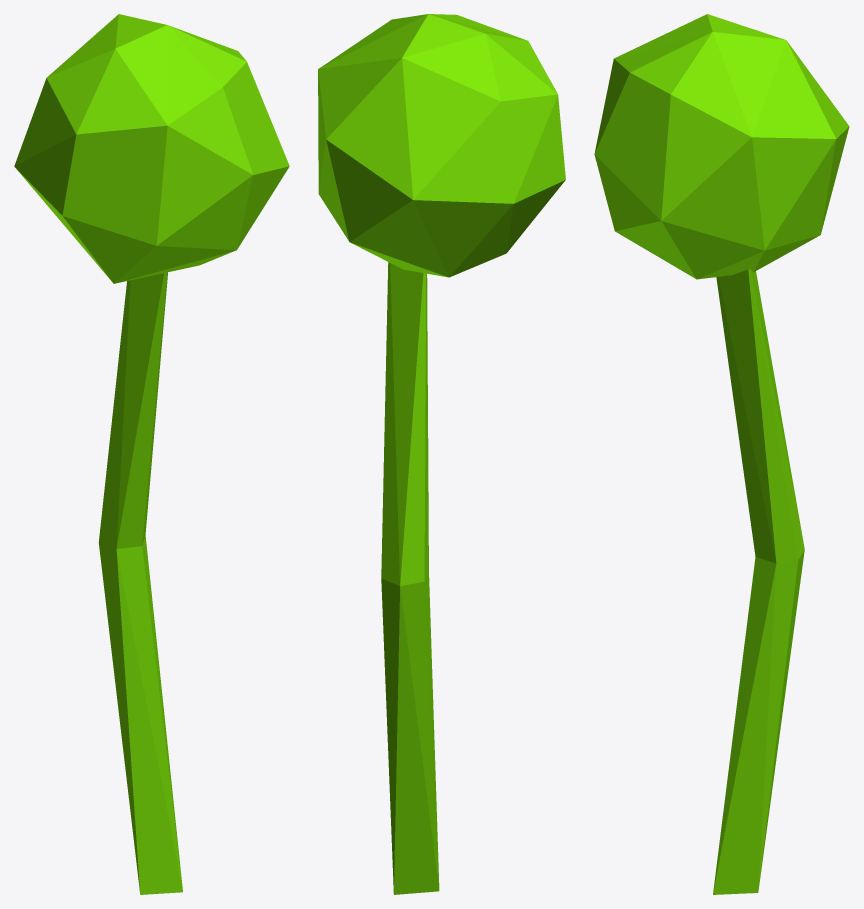
The model's file is ClosedDandilion.fbx.
3 views of the same model, side by side, from view 1: azimuth 30°, elevation 25°; view 2: azimuth 150°, elevation 25°; view 3: azimuth 270°, elevation 25° (orthographic).
Visible parts, largest first — view 1: Sphere.015; view 2: Sphere.015; view 3: Sphere.015.
Part boxes in pixels (x1,y1,x2,y2): Sphere.015: [14, 14, 289, 894]; Sphere.015: [318, 14, 565, 894]; Sphere.015: [594, 14, 849, 894].
Size of the model in its own units: 357 by 1365 by 369.
